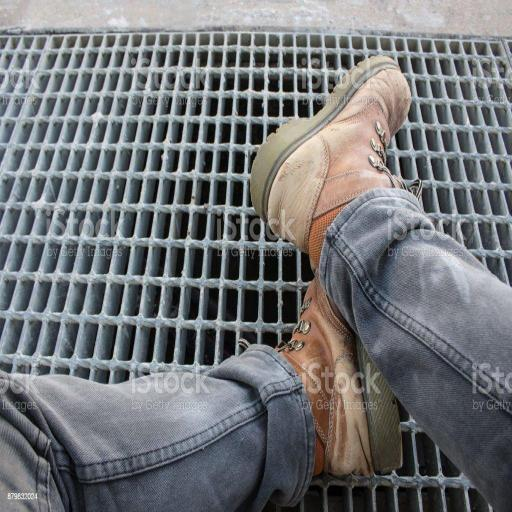safety_boots: (238, 48, 449, 233), (263, 270, 417, 495)
